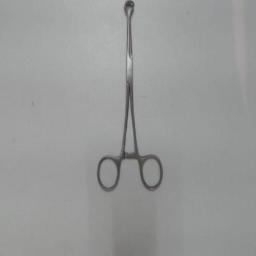Babcock Tissue Forceps: (95, 0, 165, 196)
